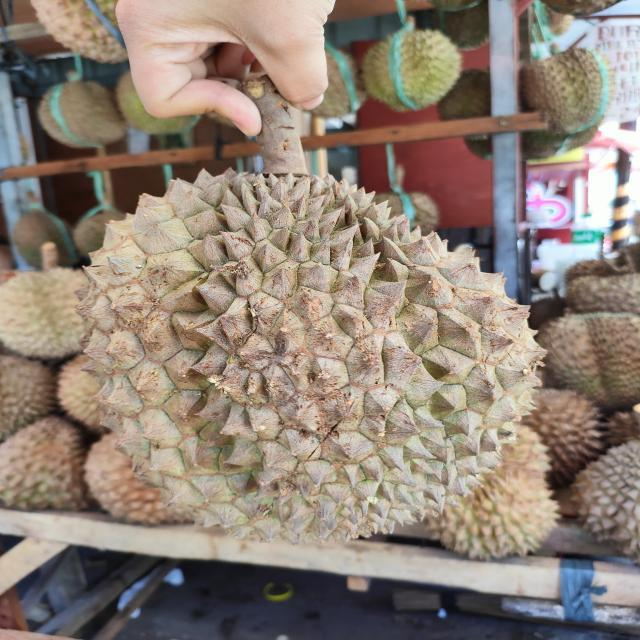mature: (81, 163, 546, 547)
